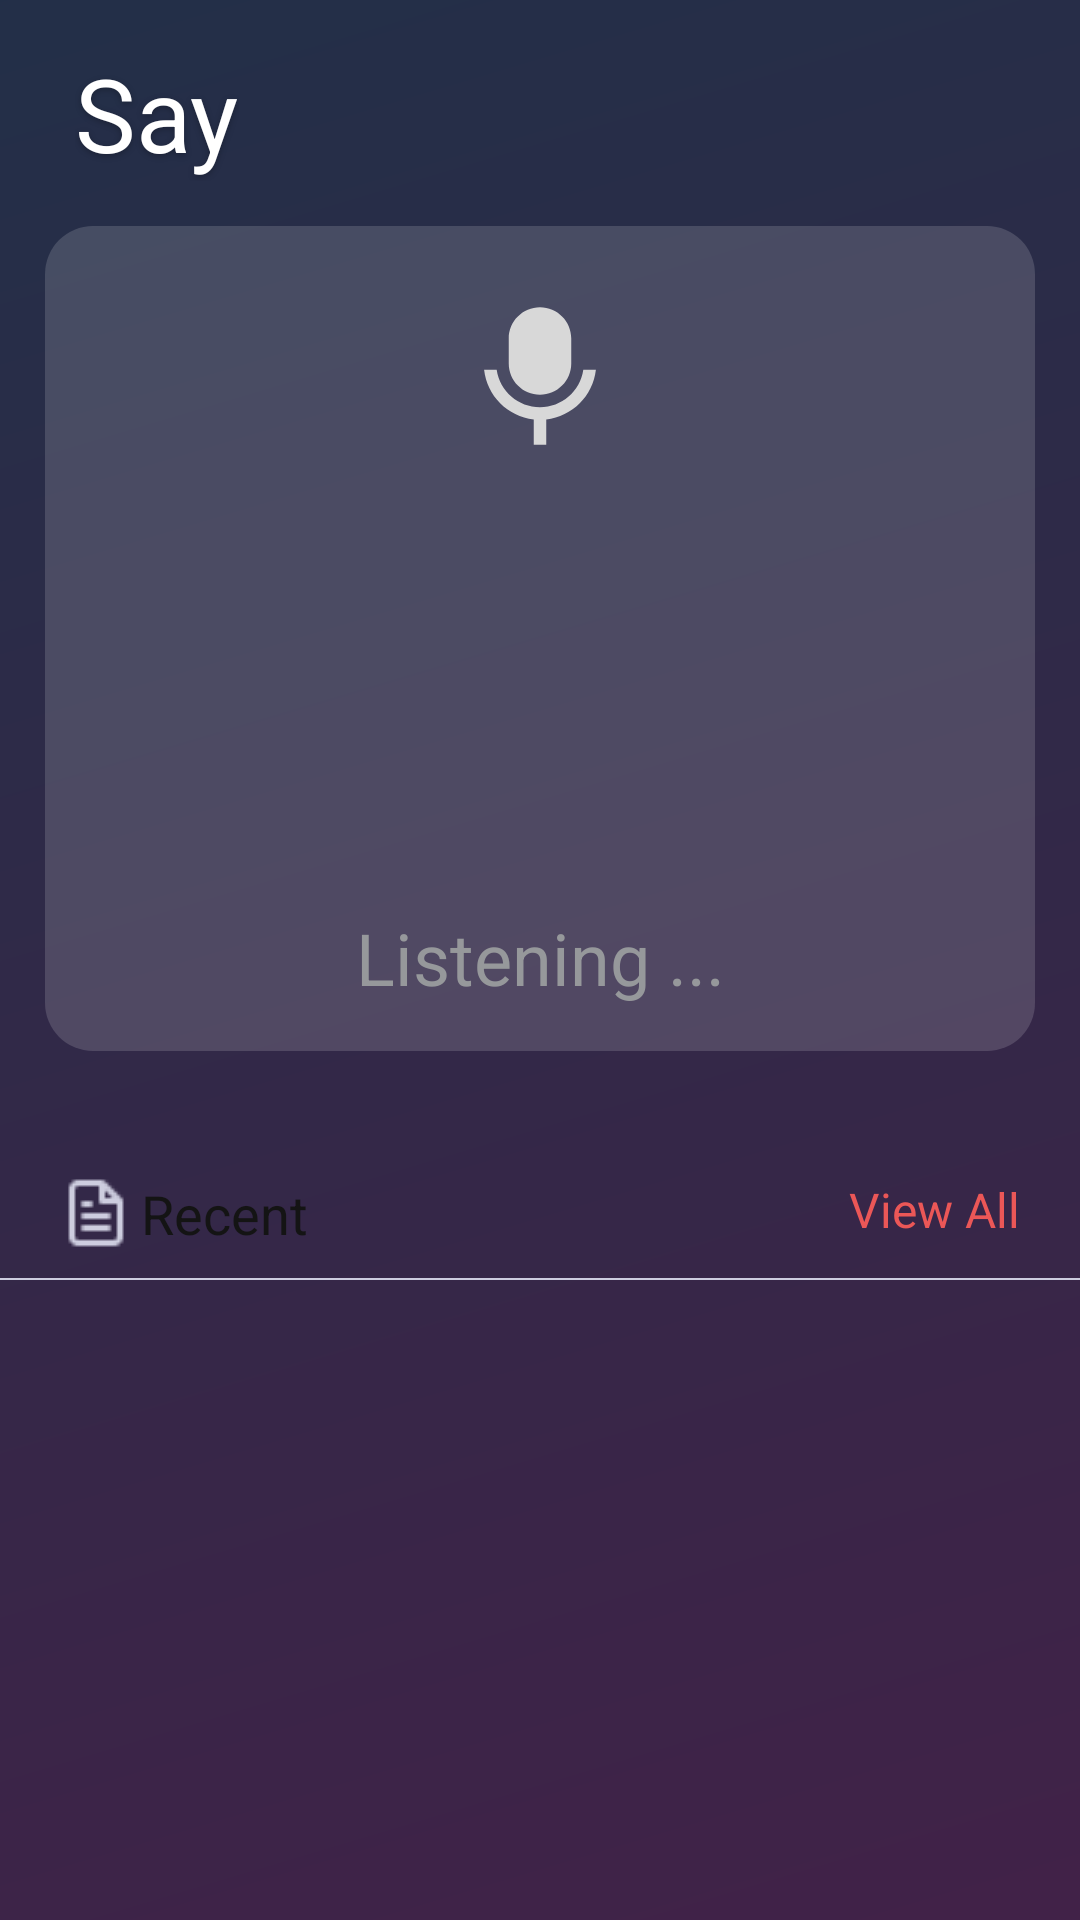

Where icons sit on this 1080w x 1920h app screen, as (x1=x1, y1=y1, x2=x2, y2=y2):
mic open: (x1=484, y1=307, x2=596, y2=445)
